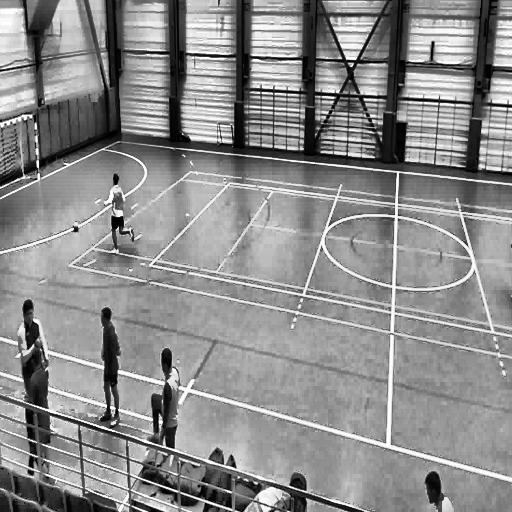ball: (73, 221, 80, 233)
